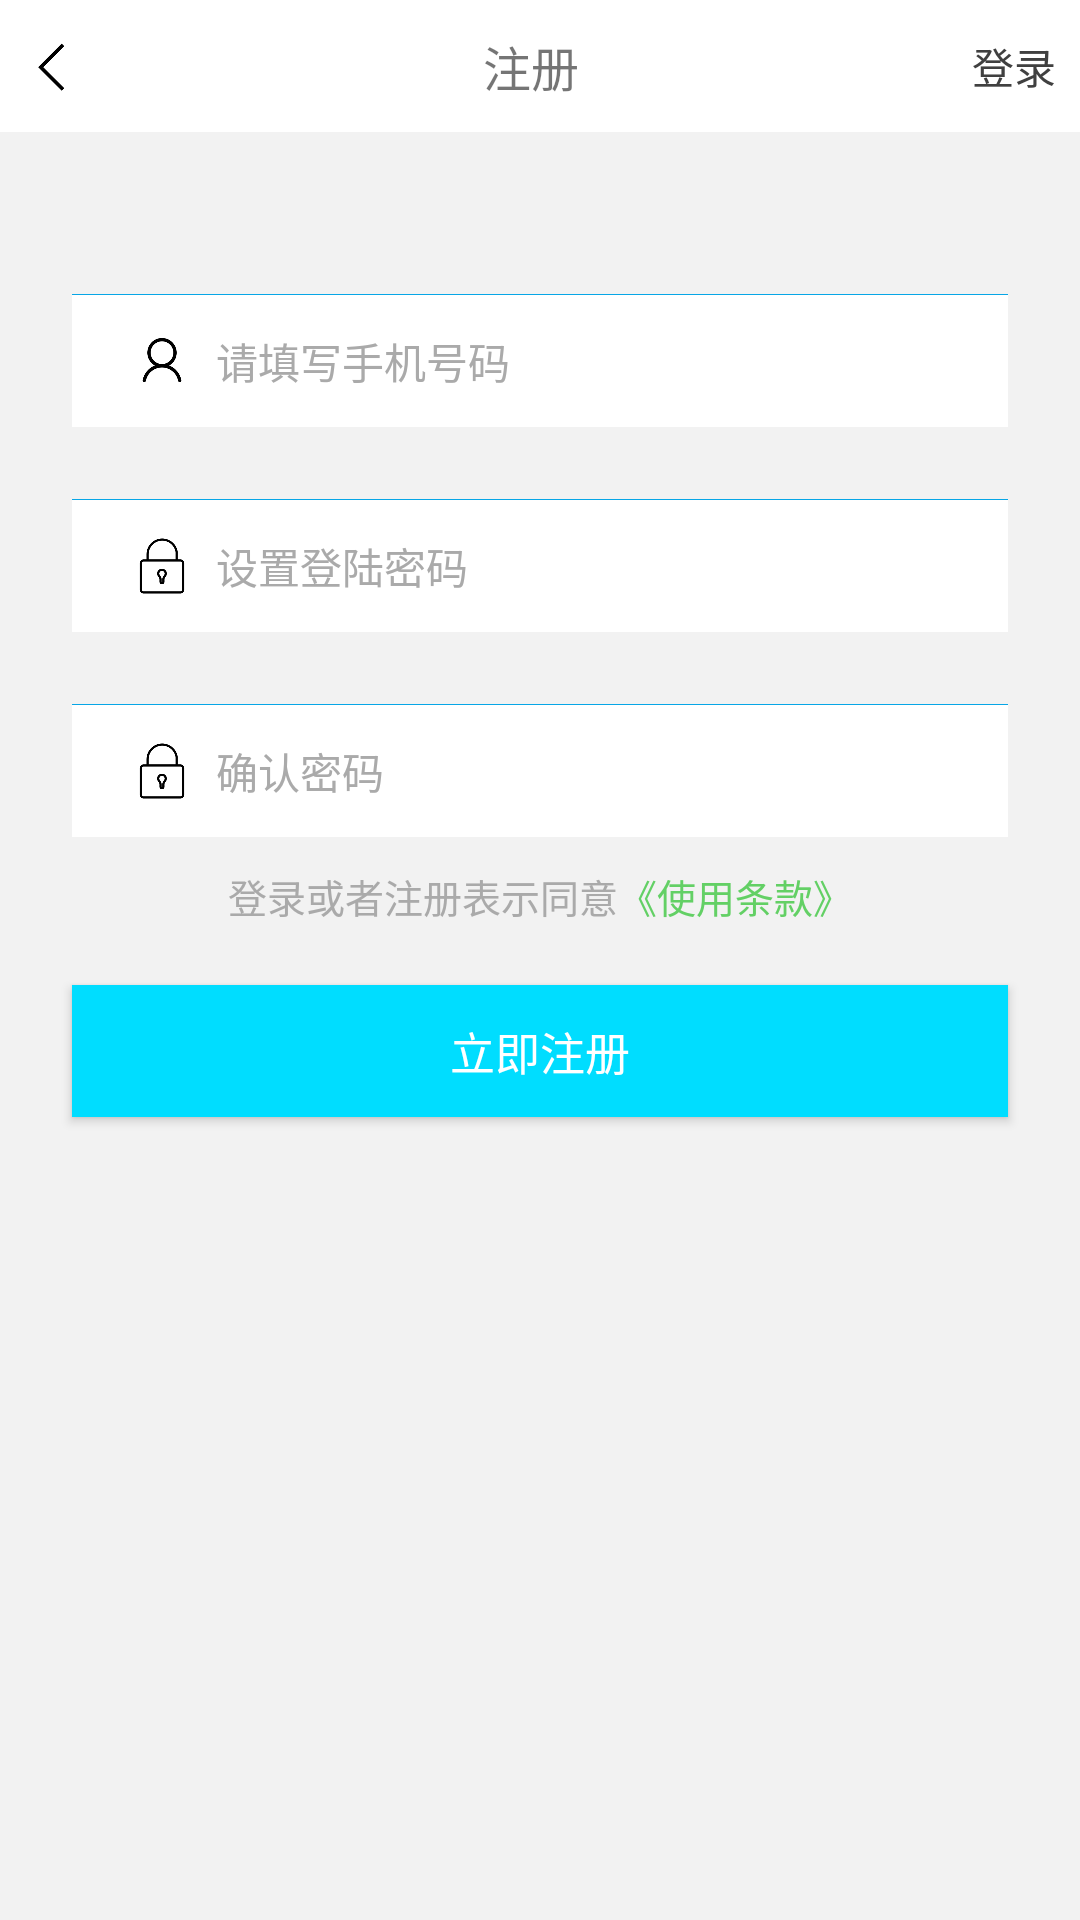

Where to tap for icons on this 1080*1920 app screen, as point (x, y):
fanhui: point (51, 67)
mima: point (162, 566), point (162, 771)
